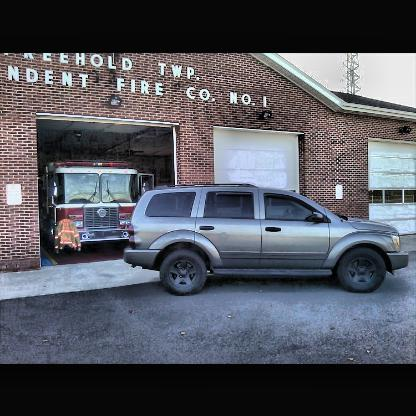Dodge Durango SUV 2007: (116, 177, 415, 312)
